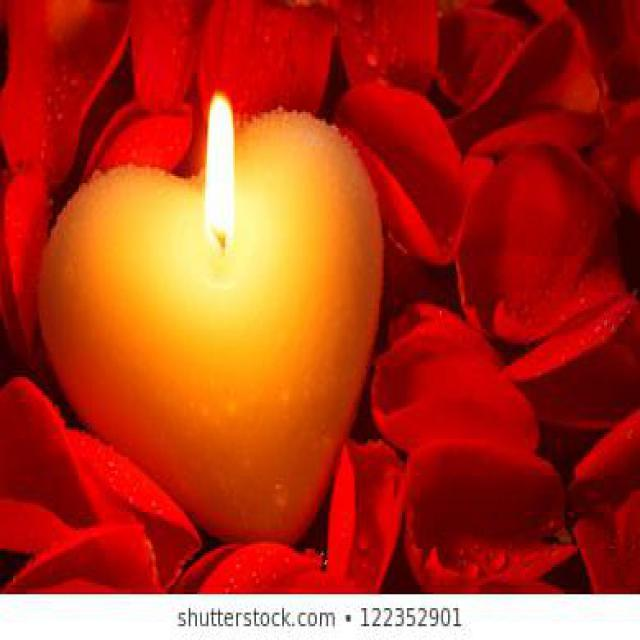Fire: (204, 92, 236, 245)
